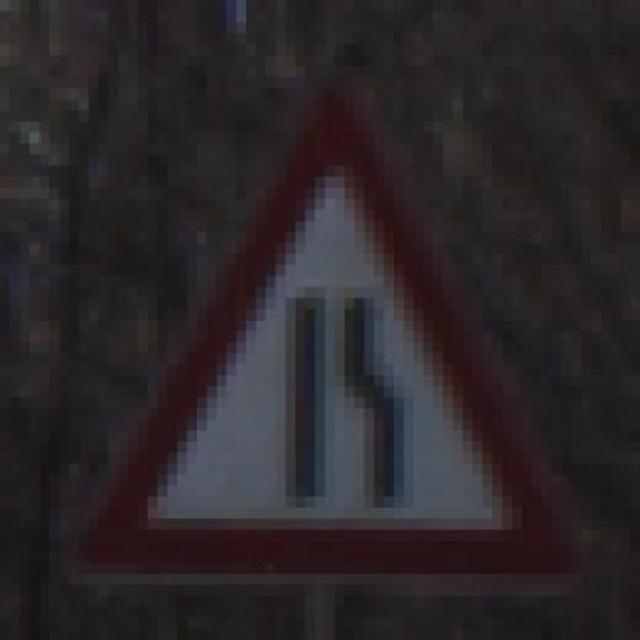-Road narrows on right: (79, 66, 601, 608)
